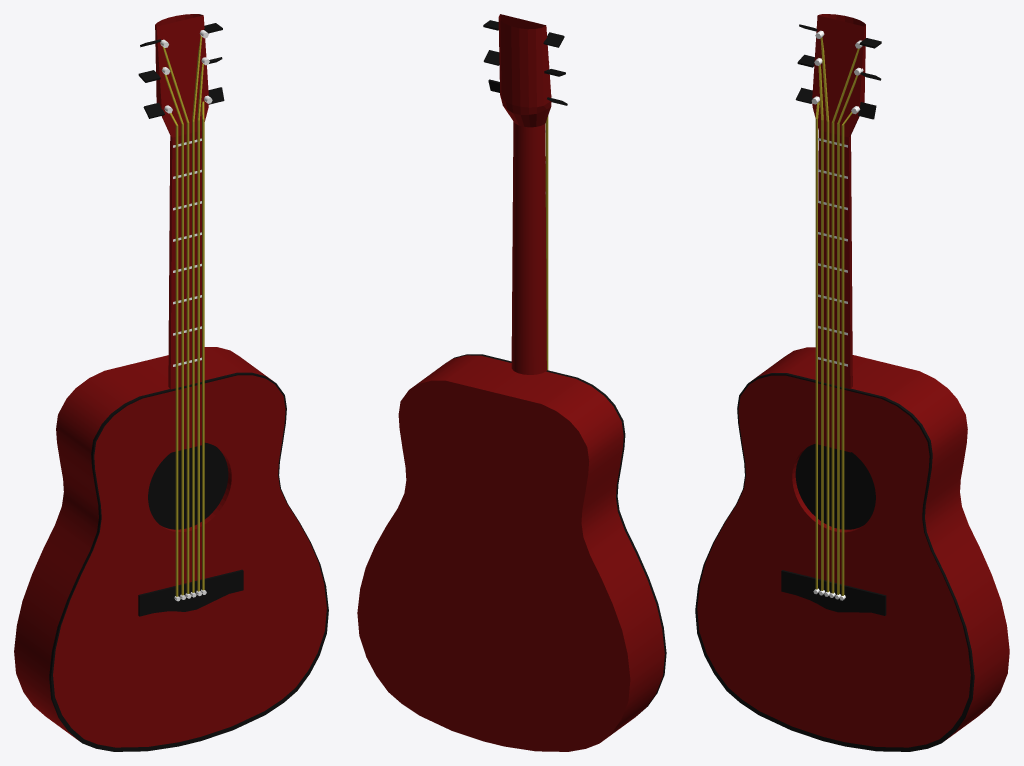
File: guitar.obj
3 renders of one model, left to right at view 1: azimuth 30°, elevation 25°; view 2: azimuth 150°, elevation 25°; view 3: azimuth 330°, elevation 25°, orthographic.
Visible parts, largest first — view 1: Line001; view 2: Line001; view 3: Line001.
Part boxes in pixels (box(x1,y1,x2,y2)): Line001: box(14, 14, 328, 751); Line001: box(357, 14, 666, 751); Line001: box(695, 14, 1009, 751).
Size of the model in its own units: 50.94 by 126 by 12.88.
